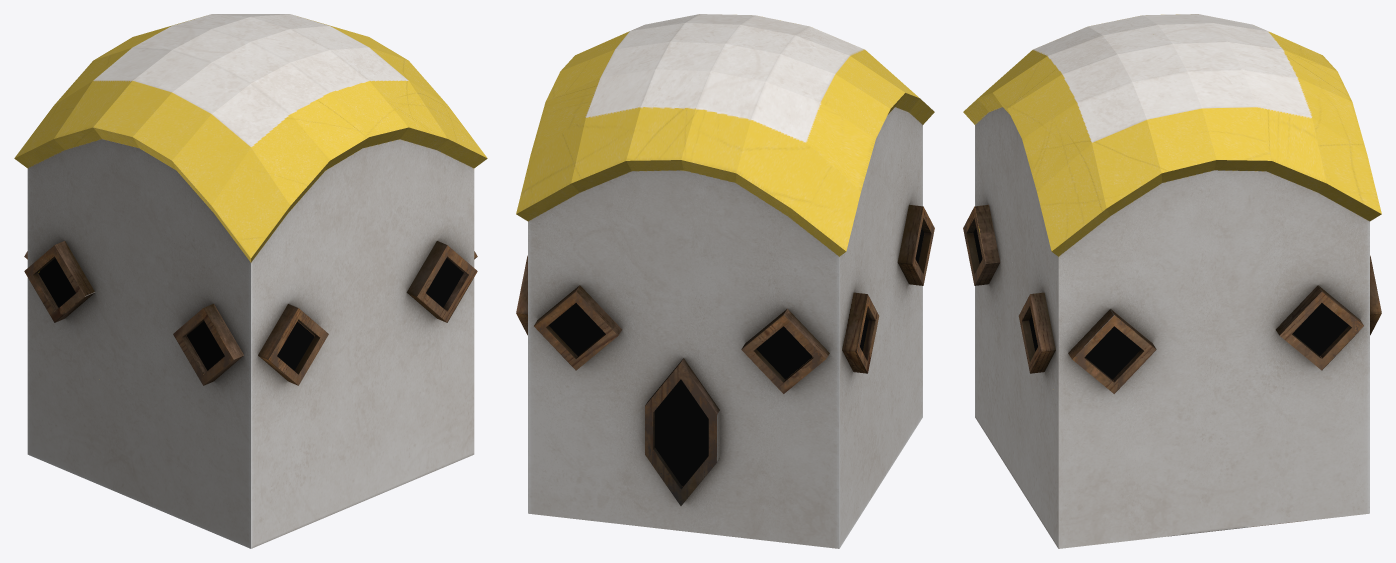
File: RoundRoof (13)_root.fbx
The picture shows the model from 3 angles, left to right: view 1: azimuth 30°, elevation 25°; view 2: azimuth 150°, elevation 25°; view 3: azimuth 270°, elevation 25°; orthographic projection. The views are drawn at different scales.
Parts seen in each view (by area): view 1: RoundRoof__13__sh_1, RoundRoof__13__sh_6, RoundRoof__13__sh_2, RoundRoof__13__sh_4, RoundRoof__13__sh_8, RoundRoof__13__sh_9, RoundRoof__13__sh_10, RoundRoof__13__sh_7; view 2: RoundRoof__13__sh_5, RoundRoof__13__sh_9, RoundRoof__13__sh_4, RoundRoof__13__sh_3, RoundRoof__13__sh_10, RoundRoof__13__sh_1, RoundRoof__13__sh_6, RoundRoof__13__sh_7; view 3: RoundRoof__13__sh_8, RoundRoof__13__sh_7, RoundRoof__13__sh_9, RoundRoof__13__sh_2, RoundRoof__13__sh_5, RoundRoof__13__sh_6, RoundRoof__13__sh_1, RoundRoof__13__sh_3.
Boxes of the visible parts, x1=… form: RoundRoof__13__sh_1: x1=93, y1=236, x2=355, y2=548; RoundRoof__13__sh_6: x1=103, y1=56, x2=404, y2=290; RoundRoof__13__sh_2: x1=270, y1=309, x2=474, y2=540; RoundRoof__13__sh_4: x1=14, y1=56, x2=169, y2=344; RoundRoof__13__sh_8: x1=346, y1=132, x2=487, y2=320; RoundRoof__13__sh_9: x1=100, y1=14, x2=427, y2=162; RoundRoof__13__sh_10: x1=24, y1=251, x2=121, y2=494; RoundRoof__13__sh_7: x1=362, y1=35, x2=485, y2=155; RoundRoof__13__sh_5: x1=516, y1=183, x2=745, y2=412; RoundRoof__13__sh_9: x1=523, y1=14, x2=790, y2=202; RoundRoof__13__sh_4: x1=722, y1=101, x2=892, y2=367; RoundRoof__13__sh_3: x1=528, y1=330, x2=732, y2=535; RoundRoof__13__sh_10: x1=725, y1=317, x2=874, y2=548; RoundRoof__13__sh_1: x1=864, y1=154, x2=934, y2=492; RoundRoof__13__sh_6: x1=732, y1=14, x2=934, y2=180; RoundRoof__13__sh_7: x1=518, y1=43, x2=601, y2=263; RoundRoof__13__sh_8: x1=1010, y1=163, x2=1303, y2=447; RoundRoof__13__sh_7: x1=1031, y1=147, x2=1374, y2=332; RoundRoof__13__sh_9: x1=1020, y1=19, x2=1374, y2=204; RoundRoof__13__sh_2: x1=982, y1=292, x2=1308, y2=548; RoundRoof__13__sh_5: x1=1292, y1=184, x2=1381, y2=427; RoundRoof__13__sh_6: x1=963, y1=14, x2=1216, y2=218; RoundRoof__13__sh_1: x1=963, y1=154, x2=1014, y2=428; RoundRoof__13__sh_3: x1=1279, y1=413, x2=1369, y2=520.
Bounding box in the file's own units: 1040 × 1155 × 1040.
1 material, 1 textured.
